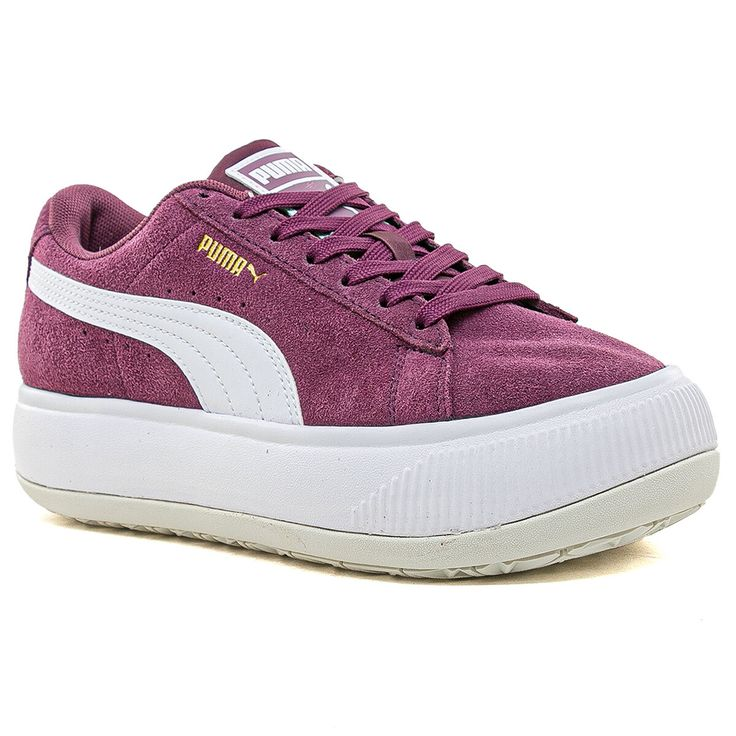gamuza: (21, 138, 665, 427)
